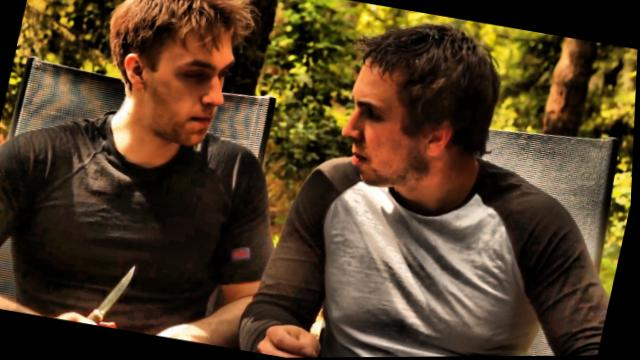knife: (64, 245, 152, 331)
